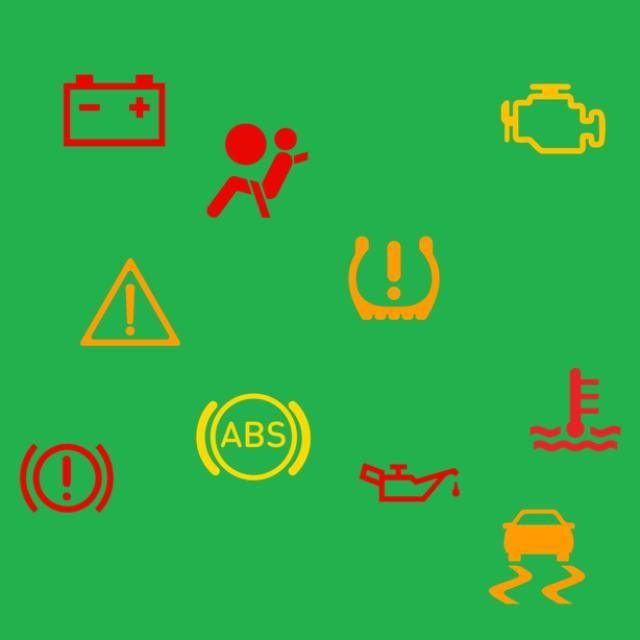Anti Lock Braking System: (191, 374, 316, 499)
Braking System Issue: (4, 416, 129, 541)
Charging System Issue: (52, 48, 177, 173)
Check Engine: (491, 56, 616, 182)
Electronic Stability Problem -ESP-: (474, 494, 600, 619)
Engine Overheating Warning Light: (513, 347, 638, 472)
Low Engine Oil Warning Light: (347, 420, 472, 545)
Low Tire Pressure Warning Light: (332, 216, 456, 341)
Master warning light: (68, 240, 193, 365)
SRS-Airbag: (195, 109, 320, 234)
